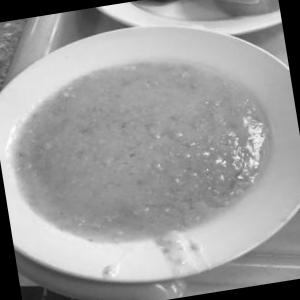porridge: (0, 24, 286, 275)
